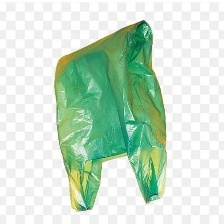plastic_bag: (53, 15, 169, 217)
